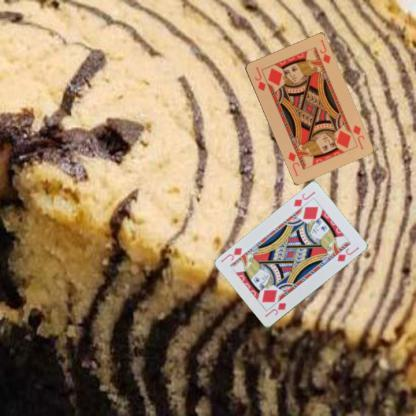Jd: (290, 189, 316, 208), (262, 300, 288, 318), (251, 64, 267, 92), (350, 122, 366, 150)
